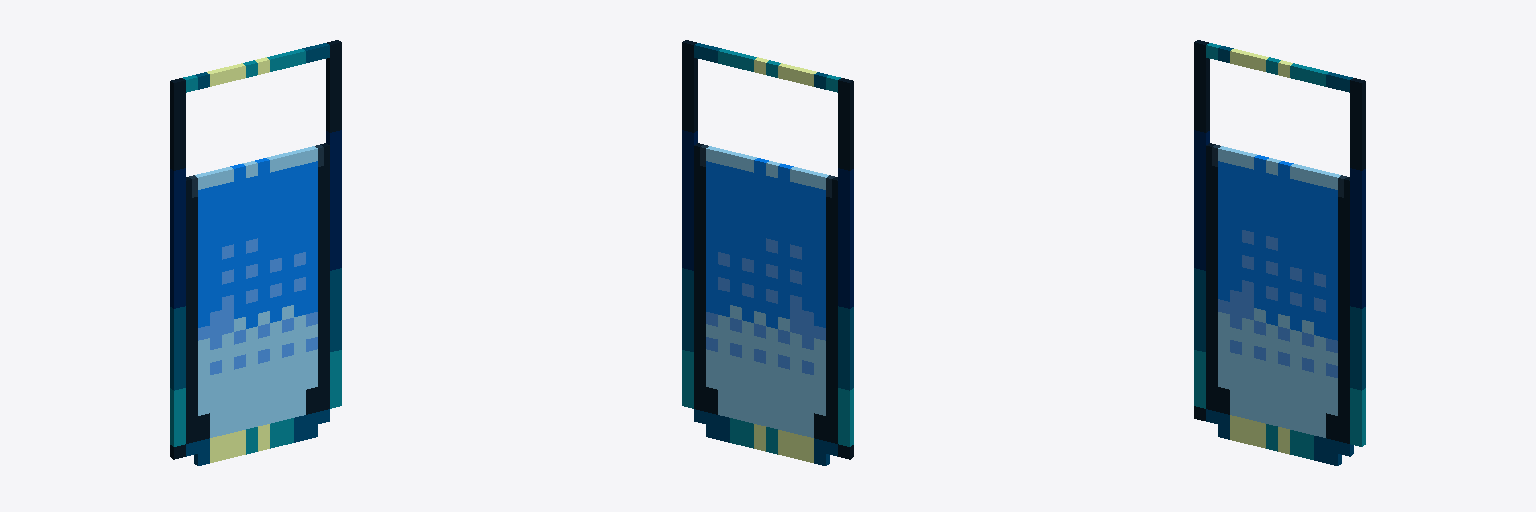
3 views of the same model, side by side, from view 1: azimuth 30°, elevation 25°; view 2: azimuth 150°, elevation 25°; view 3: azimuth 330°, elevation 25° (orthographic).
Visible parts, largest first — view 1: object 1; view 2: object 1; view 3: object 1.
Boxes of the visible parts, box(x1,y1,x2,y2) form: object 1: box(170, 40, 341, 465); object 1: box(682, 40, 853, 465); object 1: box(1194, 40, 1365, 465).
Size of the model in its own units: 2.8 by 6.2 by 0.1.
Materials: 1 (1 with a texture image).